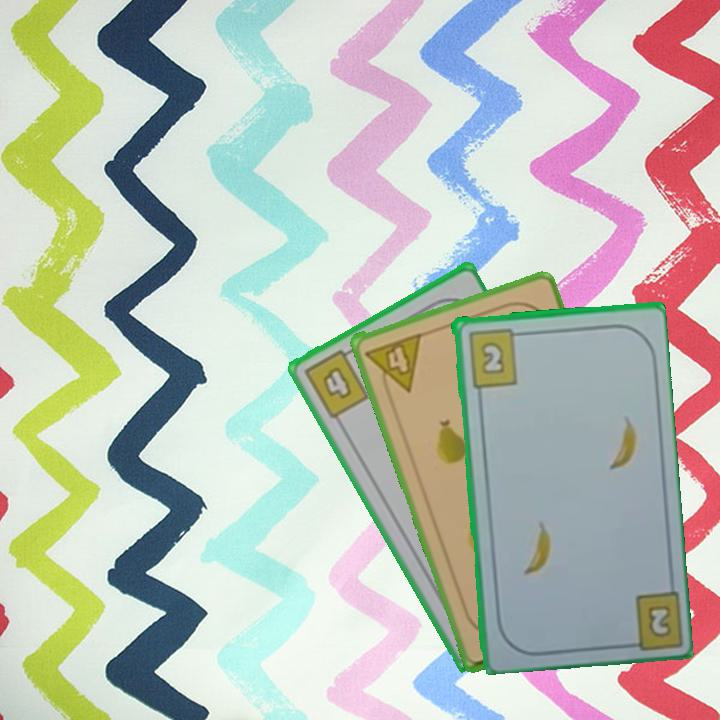2b: (617, 585, 683, 650), (464, 325, 525, 389)
4b: (300, 343, 372, 422)
4p: (362, 329, 425, 400)
